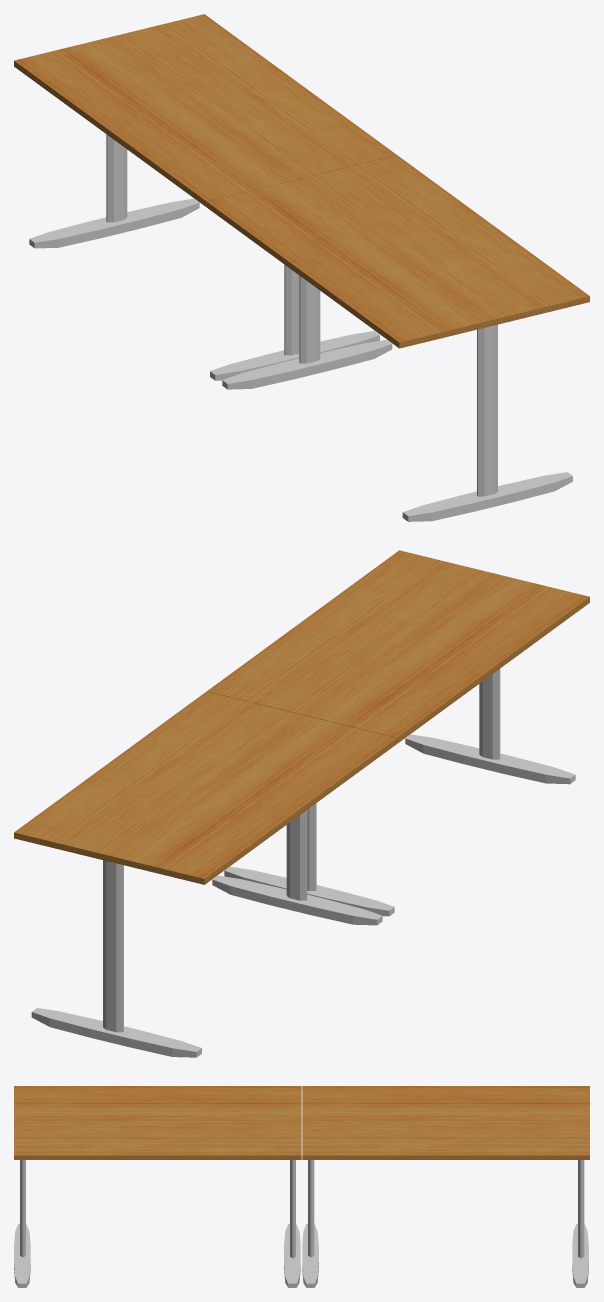
The model's file is ScrivaniaOfficina2.dae.
3 renders of one model, top to bottom at view 1: azimuth 30°, elevation 25°; view 2: azimuth 150°, elevation 25°; view 3: azimuth 270°, elevation 25°, orthographic. The views are drawn at different scales.
Visible parts, largest first — view 1: Cube_002_009, Cube_008, Sscrivania_000_003_005, Sscrivania_000_001_005; view 2: Cube_008, Cube_002_009, Sscrivania_000_001_005, Sscrivania_000_003_005; view 3: Cube_002_009, Cube_008, Sscrivania_000_001_005, Sscrivania_000_003_005.
Boxes of the visible parts, x1,y1,x2,y2 form: Cube_002_009: (207, 155, 589, 348); Cube_008: (14, 14, 396, 207); Sscrivania_000_003_005: (222, 275, 572, 521); Sscrivania_000_001_005: (29, 134, 379, 380); Cube_008: (14, 691, 396, 884); Cube_002_009: (207, 550, 589, 743); Sscrivania_000_001_005: (31, 810, 382, 1057); Sscrivania_000_003_005: (224, 669, 575, 916); Cube_002_009: (14, 1086, 301, 1159); Cube_008: (302, 1086, 589, 1159); Sscrivania_000_001_005: (302, 1160, 588, 1287); Sscrivania_000_003_005: (14, 1160, 300, 1287).
Bounding box in the file's own units: 0.8005 × 2.8 × 0.7514.
Materials: 3 (1 with a texture image).
